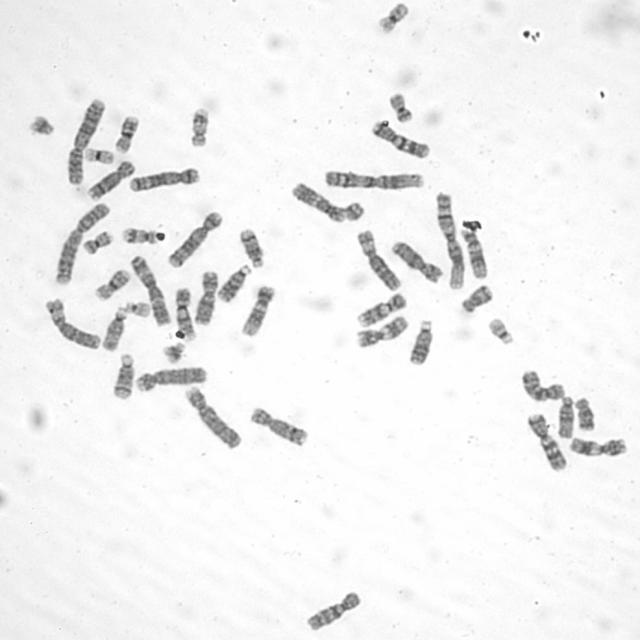A1: (432, 189, 467, 291), (321, 166, 427, 192)
A2: (52, 198, 112, 286), (64, 96, 106, 186)
A3: (127, 252, 172, 328), (288, 178, 347, 224)
B4: (182, 382, 243, 451), (132, 362, 210, 393)
B5: (165, 208, 224, 269), (126, 165, 202, 193)
C10: (302, 588, 363, 632), (518, 367, 567, 402)
C11: (353, 312, 411, 348), (566, 433, 629, 459)
C12: (239, 282, 276, 337), (458, 225, 488, 279)
C6: (41, 294, 102, 351), (354, 226, 402, 292)
C7: (523, 409, 569, 472), (367, 117, 432, 160)
C8: (247, 403, 310, 447), (84, 157, 137, 202)
C9: (354, 289, 408, 329), (171, 284, 199, 342)
D13: (214, 261, 252, 304), (405, 315, 436, 367)
D14: (109, 350, 136, 401), (237, 224, 265, 270)
D15: (100, 305, 128, 353), (554, 392, 576, 440)
E16: (92, 266, 132, 302), (111, 112, 141, 154)
E17: (186, 103, 211, 150), (120, 224, 158, 246)
E18: (458, 282, 495, 314), (572, 394, 597, 432)
F19: (374, 0, 410, 35), (82, 144, 116, 166)
F20: (386, 88, 416, 124), (80, 228, 115, 256)
G21: (23, 111, 58, 138), (159, 339, 187, 365)
G22: (486, 314, 516, 346), (122, 298, 152, 319)
X: (388, 238, 444, 284), (191, 268, 220, 326)
